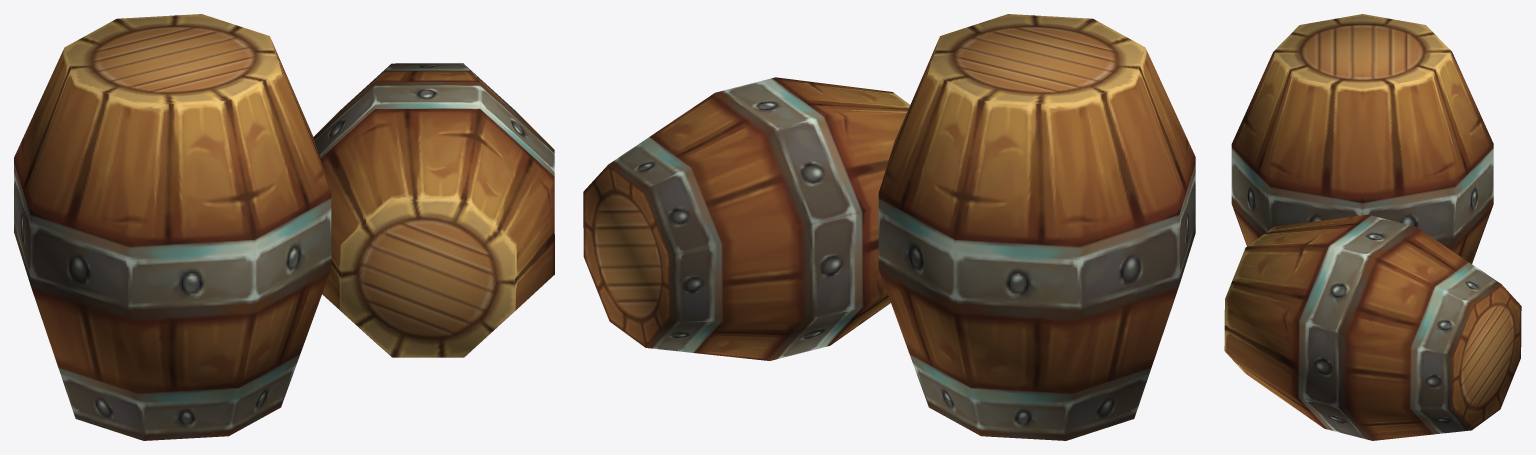
The model's file is FH_Env_obj_07.FBX.
3 views of the same model, side by side, from view 1: azimuth 30°, elevation 25°; view 2: azimuth 150°, elevation 25°; view 3: azimuth 270°, elevation 25° (orthographic). The views are drawn at different scales.
Parts seen in each view (by area): view 1: Tong, Object06; view 2: Tong, Object06; view 3: Object06, Tong.
Part boxes in pixels (x1,y1,x2,y2): Tong: (14,14,331,440); Object06: (313,63,554,357); Tong: (878,14,1195,440); Object06: (583,77,909,360); Object06: (1224,214,1521,440); Tong: (1231,14,1493,263).
Size of the model in its own units: 48.97 by 29.07 by 29.25.
